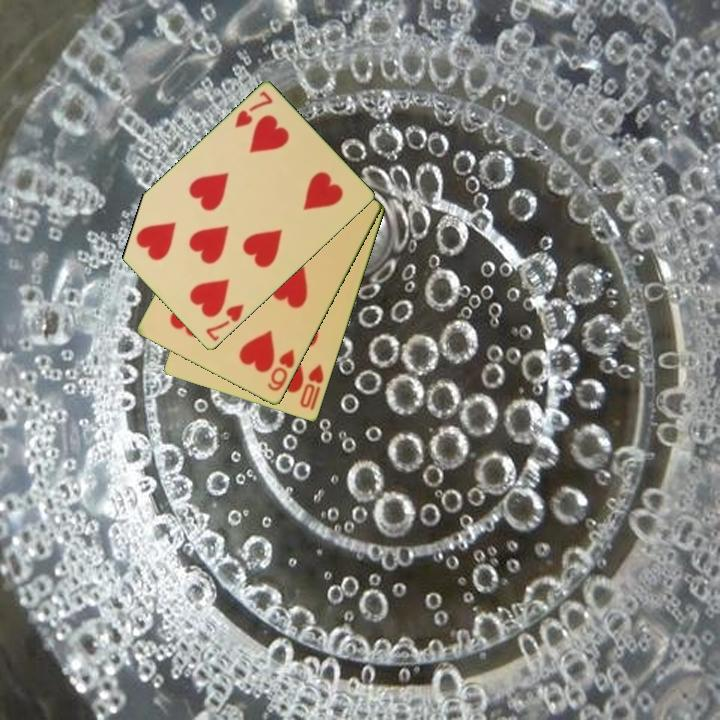10h: (296, 361, 327, 411)
6h: (264, 346, 298, 395)
7h: (202, 301, 247, 344), (231, 88, 276, 131)
